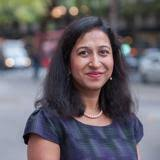without_mask: (67, 25, 115, 92)
